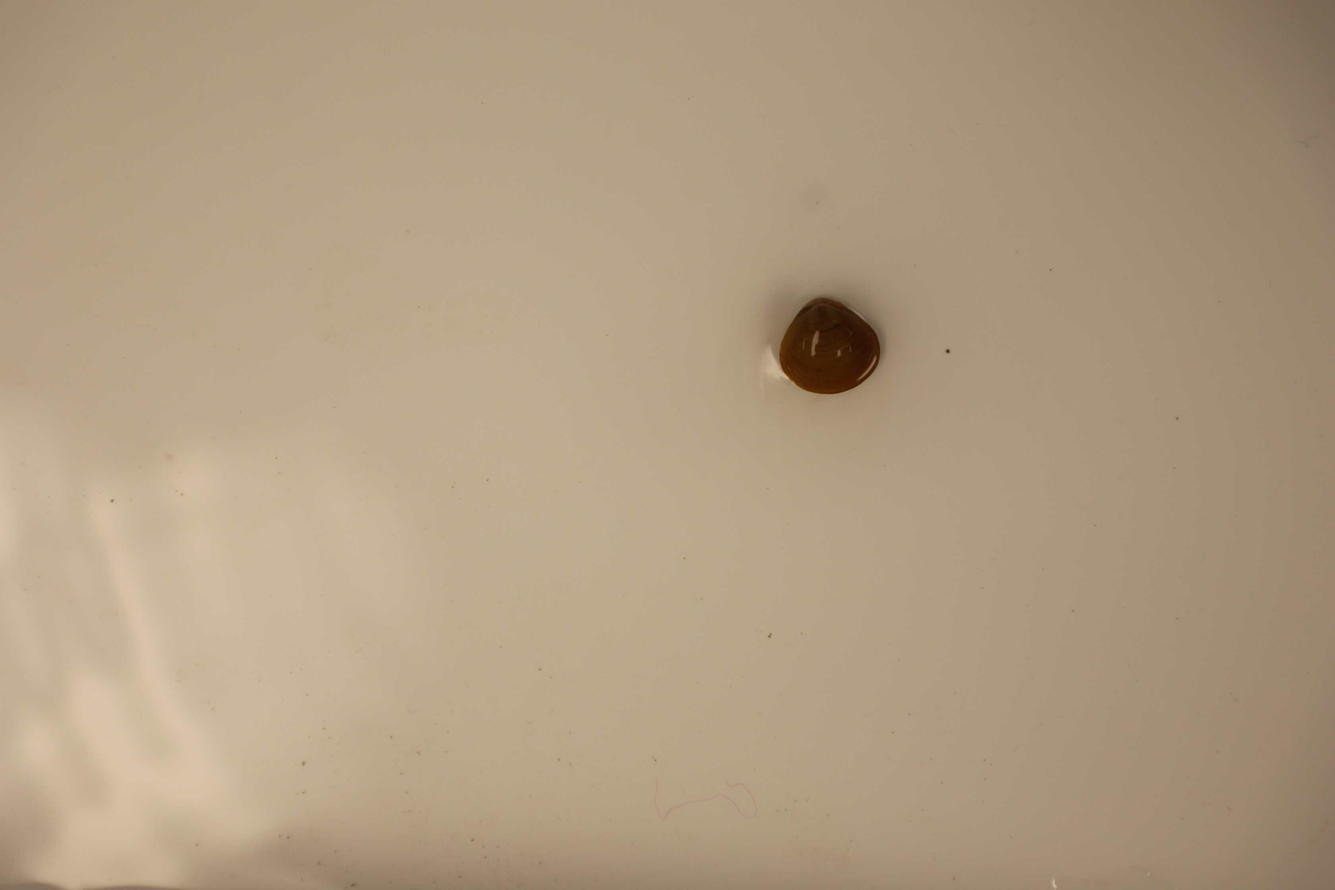Other: (760, 292, 883, 398)
